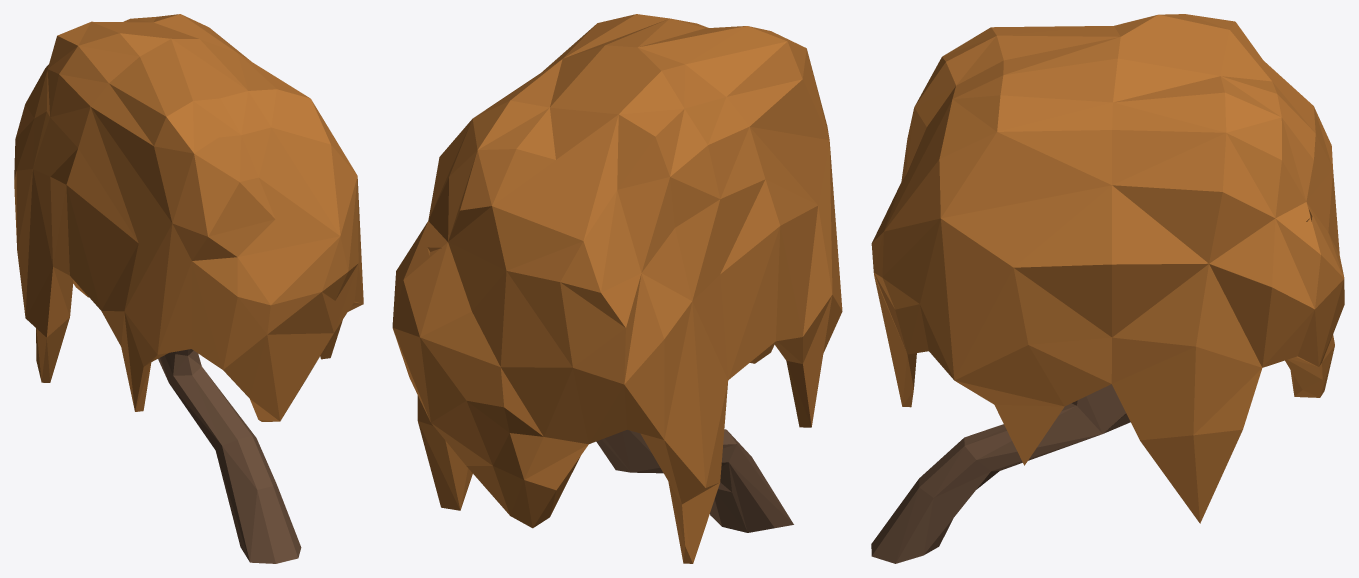
File: Willow_Autumn_3.glb
3 renders of one model, left to right at view 1: azimuth 30°, elevation 25°; view 2: azimuth 150°, elevation 25°; view 3: azimuth 270°, elevation 25°, orthographic. The views are drawn at different scales.
Visible parts, largest first — view 1: Willow_Autumn_3; view 2: Willow_Autumn_3; view 3: Willow_Autumn_3.
Boxes of the visible parts, left/top/right/bottom form: Willow_Autumn_3: left=14, top=14, right=363, bottom=563; Willow_Autumn_3: left=392, top=14, right=842, bottom=563; Willow_Autumn_3: left=871, top=14, right=1344, bottom=563.
Size of the model in its own units: 1.32 by 2.34 by 1.96.
